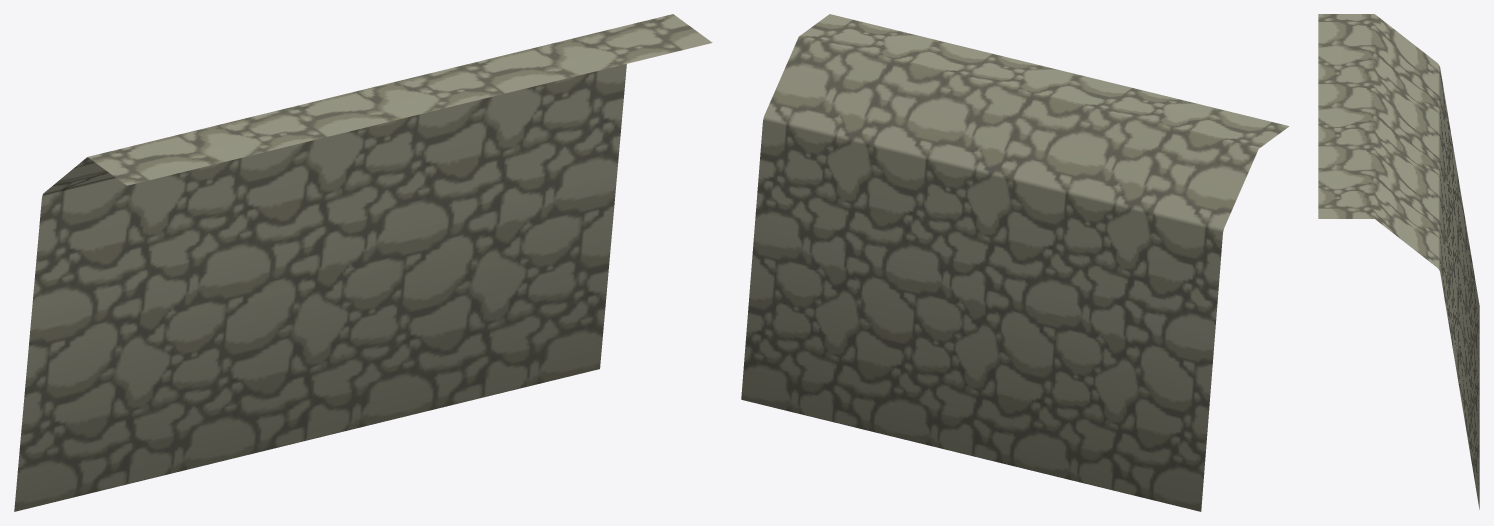
The model's file is NNJ0510048.fbx.
3 views of the same model, side by side, from view 1: azimuth 30°, elevation 25°; view 2: azimuth 150°, elevation 25°; view 3: azimuth 270°, elevation 25° (orthographic). The views are drawn at different scales.
Visible parts, largest first — view 1: smNNJ0510048; view 2: smNNJ0510048; view 3: smNNJ0510048.
Part boxes in pixels (x1,y1,x2,y2): smNNJ0510048: [14, 14, 712, 511]; smNNJ0510048: [741, 14, 1289, 511]; smNNJ0510048: [1318, 14, 1479, 509].
Size of the model in its own units: 276 by 184 by 92.13.
1 material, 1 textured.
